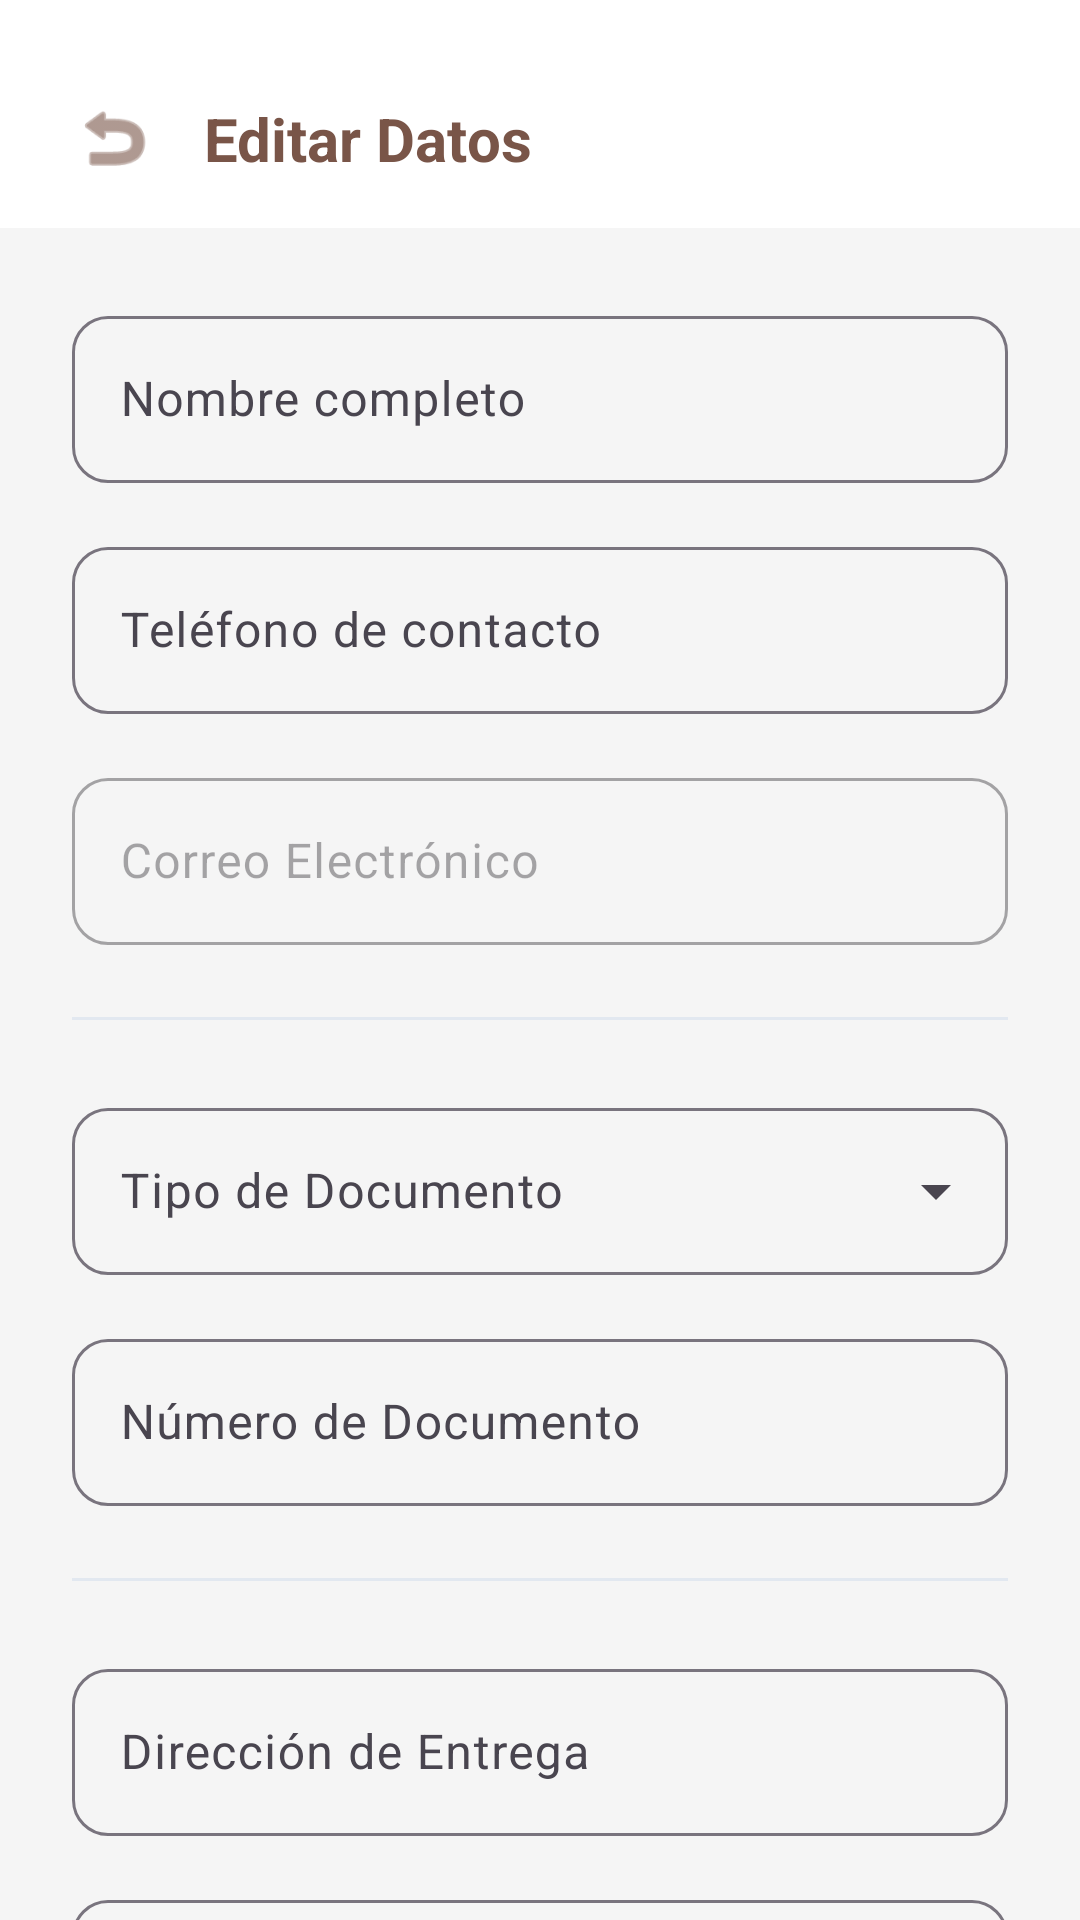

Icon click points for this 1080w x 1920h phone screenshot, format point (x, y):
revert: point (115, 138)
